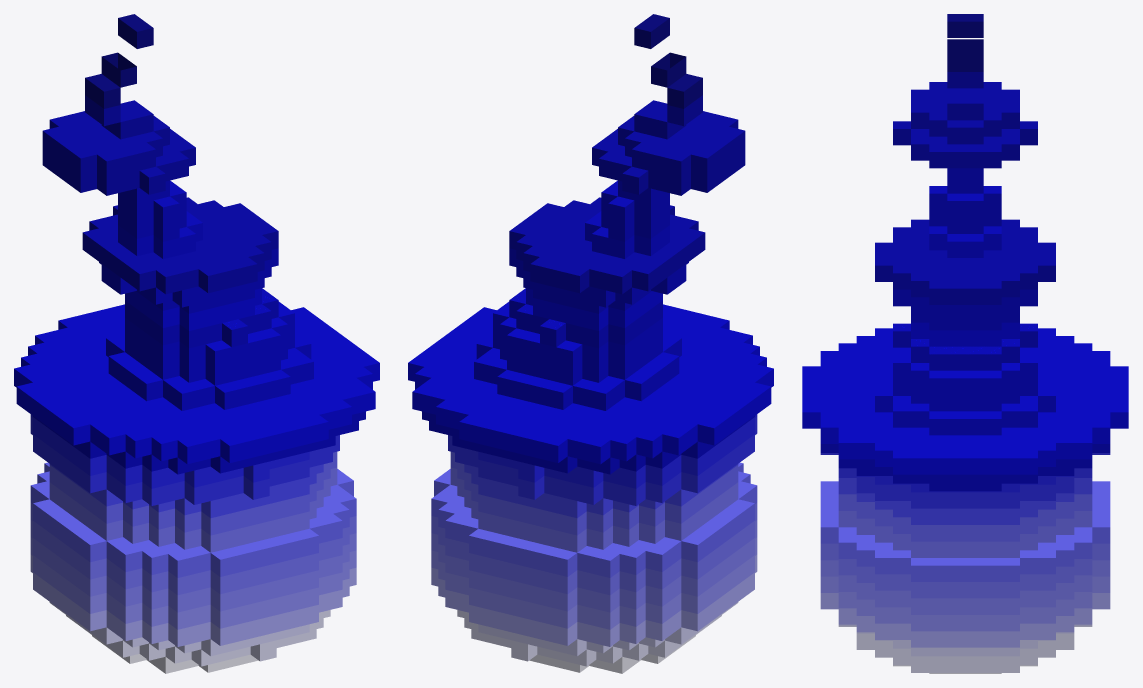
File: SMBTD0_flame.obj
3 views of the same model, side by side, from view 1: azimuth 30°, elevation 25°; view 2: azimuth 150°, elevation 25°; view 3: azimuth 270°, elevation 25° (orthographic). The views are drawn at different scales.
Parts seen in each view (by area): view 1: TorchFlame; view 2: TorchFlame; view 3: TorchFlame.
Part boxes in pixels (x1,y1,x2,y2): TorchFlame: (14, 14, 379, 673); TorchFlame: (408, 14, 773, 673); TorchFlame: (802, 14, 1128, 673).
Bounding box in the file's own units: 0.4737 × 0.9474 × 0.4737.
Materials: 1 (1 with a texture image).
